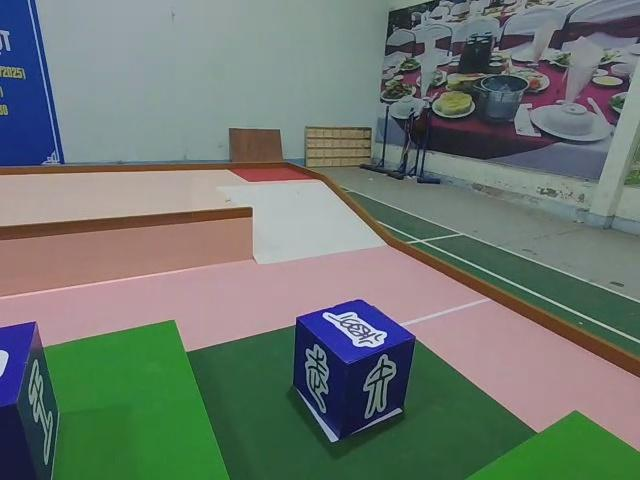R2 Fake Blue: (293, 301, 415, 447), (0, 323, 59, 480)
